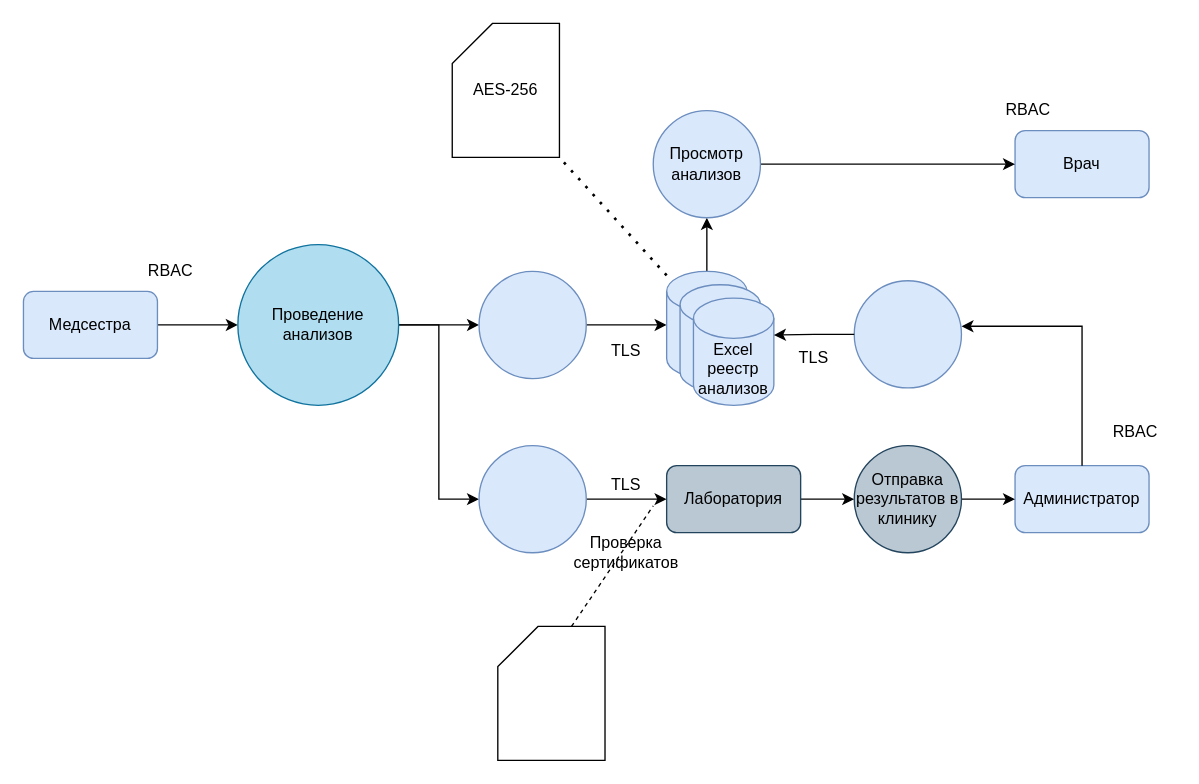
This 1199x784 diagram has some shape labels left out. The centre of each missing label's shape, as x and y in pixels:
"Добавление результатов" goes at point (907, 333).
"Забор анализов" goes at point (532, 324).
"Когда будет делаться интеграция через API" goes at point (550, 692).
"Отправка проб в Лабораторию" goes at point (532, 498).
